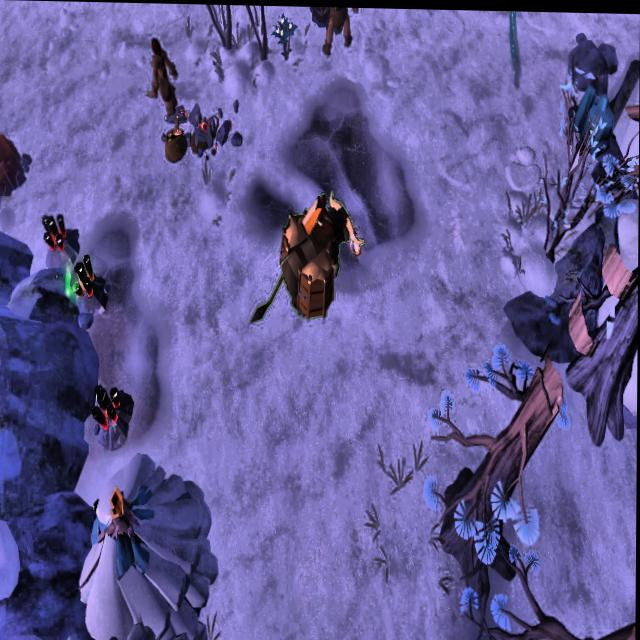enemy_factionKeeper: (147, 35, 180, 120), (318, 6, 357, 53)
fiber_t4: (274, 11, 298, 59)
ore_t5: (92, 382, 121, 435), (71, 251, 98, 300), (42, 207, 67, 254)
rock_t4: (570, 82, 613, 157)
rock_t5: (0, 125, 27, 198)
